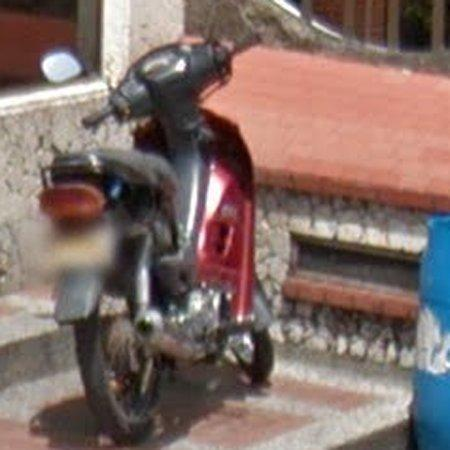motorcycles: (39, 42, 273, 445)
